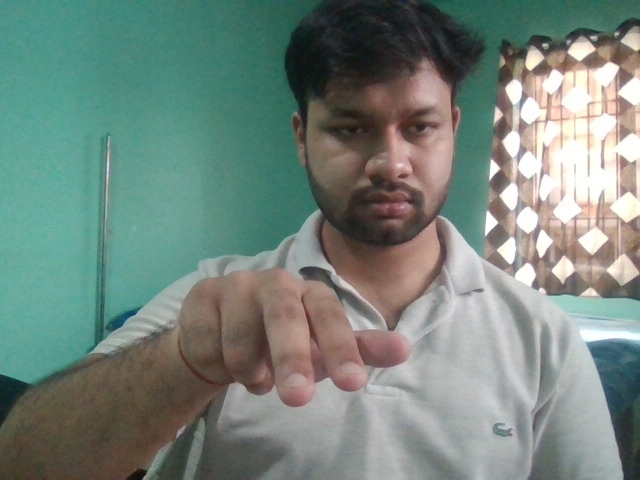No: (175, 266, 414, 409)
